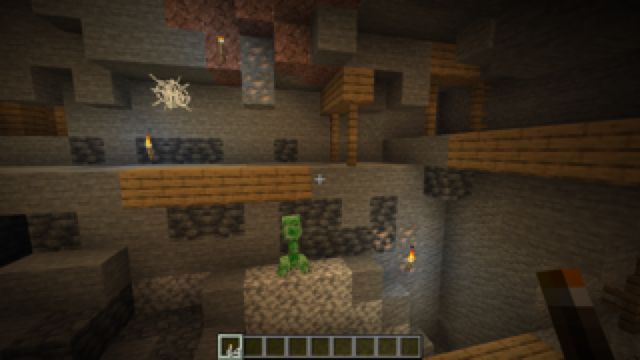iron: (241, 34, 303, 106), (368, 225, 419, 274)
